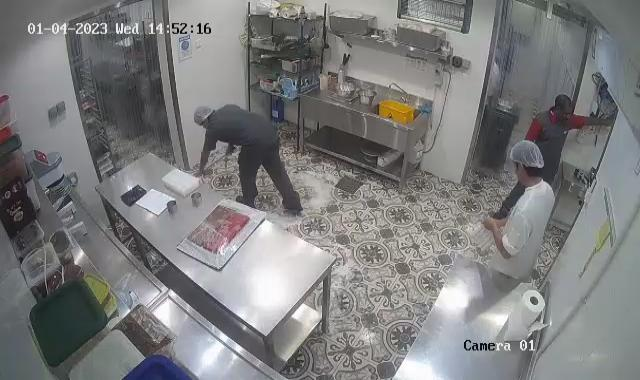hairnet: (508, 136, 548, 175), (192, 106, 214, 128)
no_hairnet: (550, 94, 576, 116)
